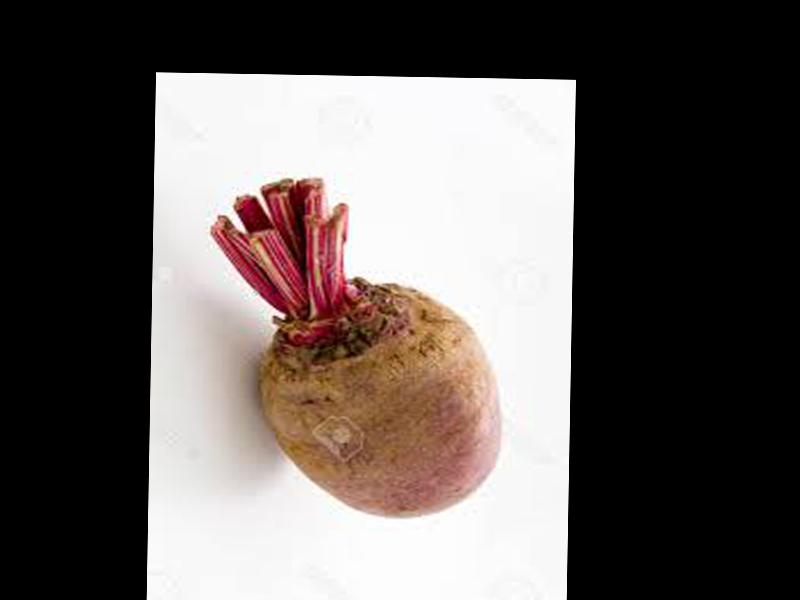Beet: (202, 177, 507, 521)
